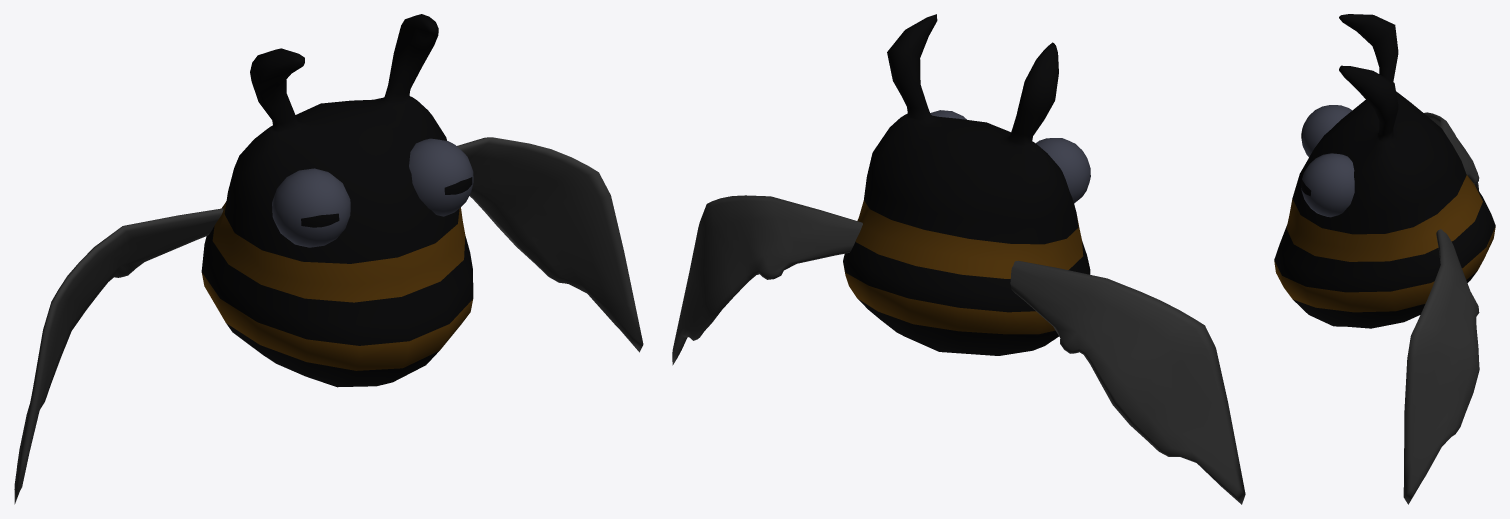
Rendered from Armabee.obj.
3 views of the same model, side by side, from view 1: azimuth 30°, elevation 25°; view 2: azimuth 150°, elevation 25°; view 3: azimuth 270°, elevation 25° (orthographic). The views are drawn at different scales.
Visible parts, largest first — view 1: Armabee_Sphere.018; view 2: Armabee_Sphere.018; view 3: Armabee_Sphere.018.
Part boxes in pixels (box(x1,y1,x2,y2)): Armabee_Sphere.018: box(14, 14, 643, 504); Armabee_Sphere.018: box(672, 14, 1245, 504); Armabee_Sphere.018: box(1274, 14, 1495, 504).
Bounding box in the file's own units: 3.69 × 2.34 × 1.38.
